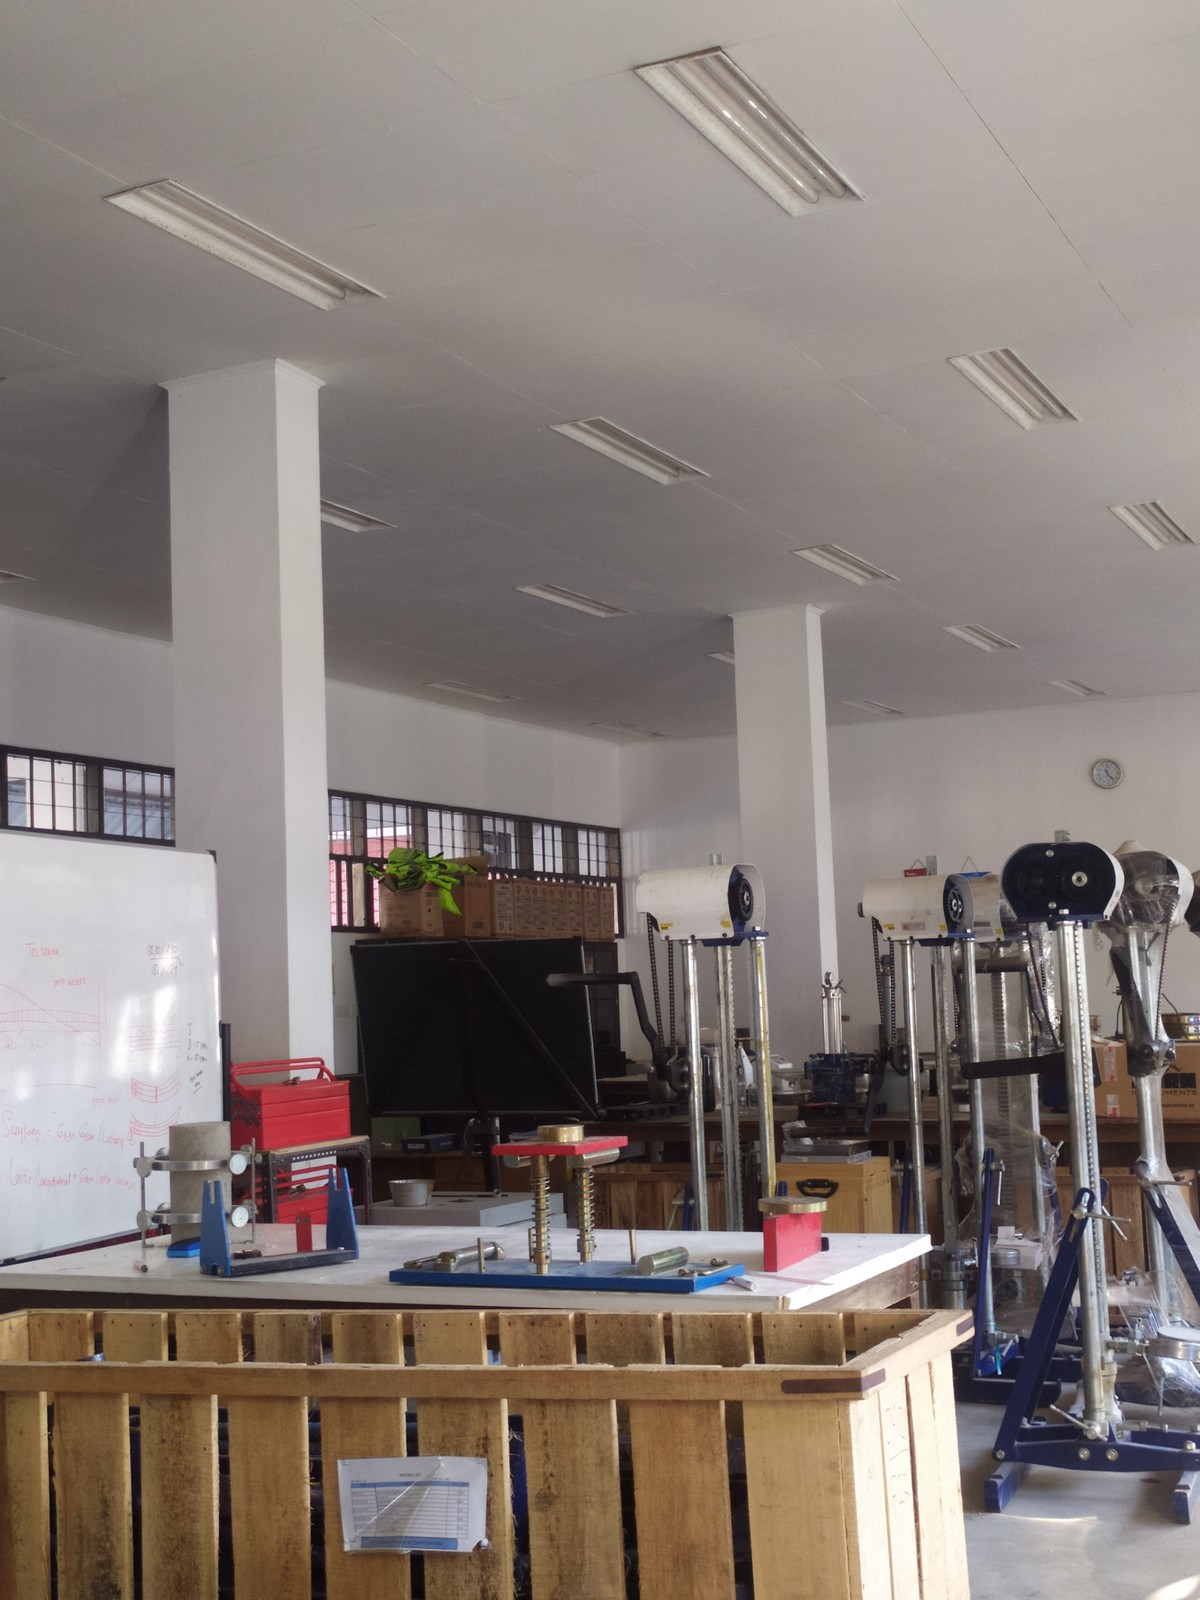concrete column: (153, 351, 345, 1083), (725, 598, 846, 1053)
